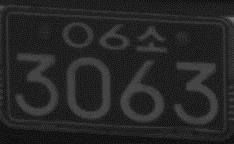0: (66, 56, 111, 120), (61, 20, 94, 49)
3: (174, 60, 219, 125), (14, 51, 58, 117)
6: (119, 59, 165, 124), (98, 22, 130, 51)
소: (135, 24, 168, 54)
